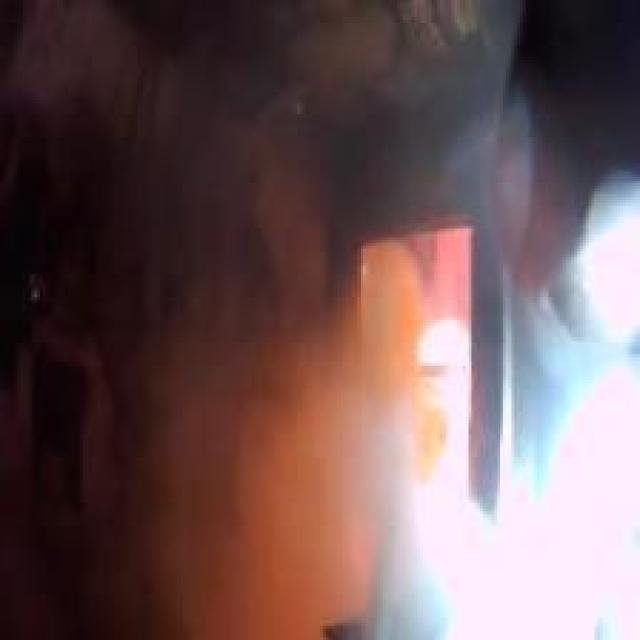other: (402, 308, 616, 628)
